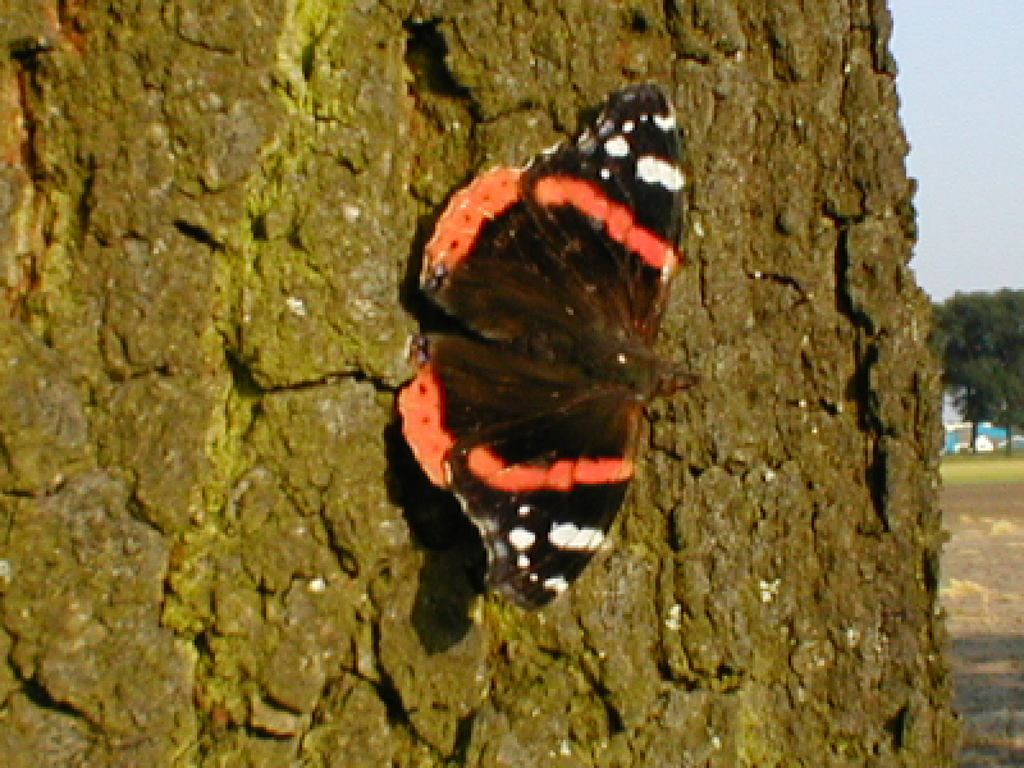Butterfly: (380, 93, 745, 627)
